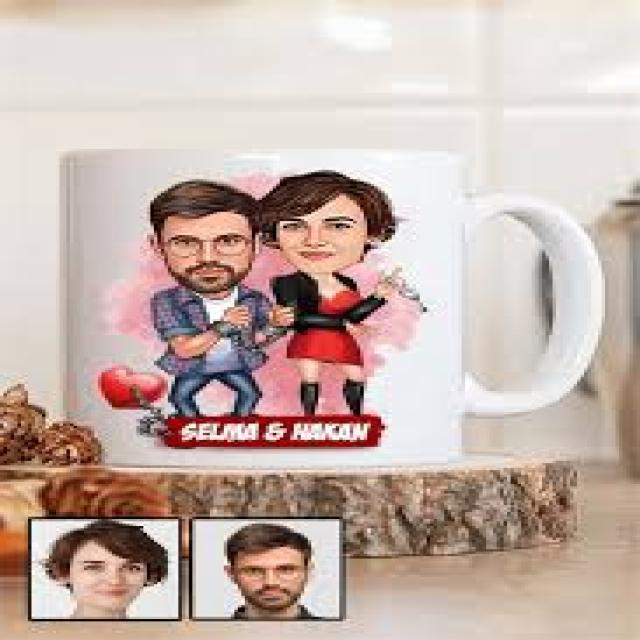taza: (59, 146, 607, 471)
